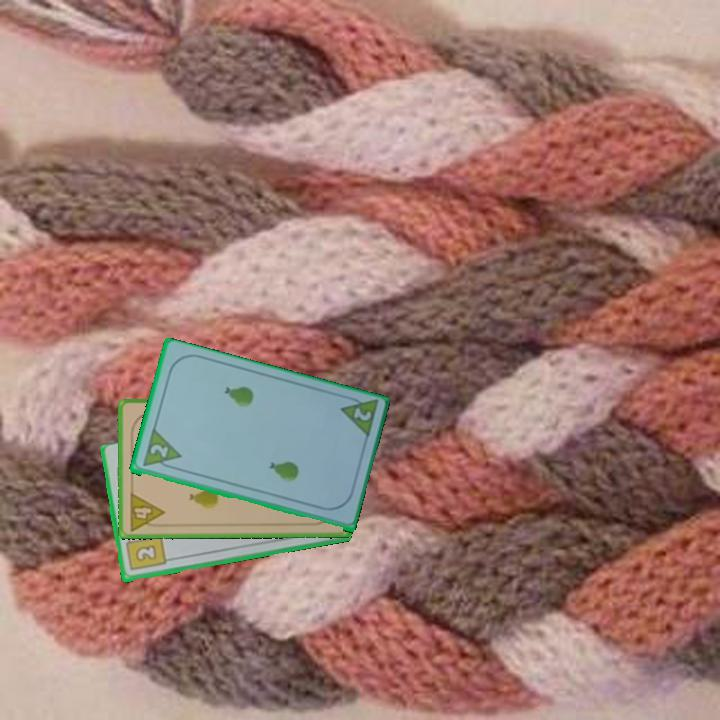2b: (122, 532, 168, 574)
2p: (336, 392, 381, 442), (146, 441, 171, 461)
4p: (126, 489, 167, 534)
